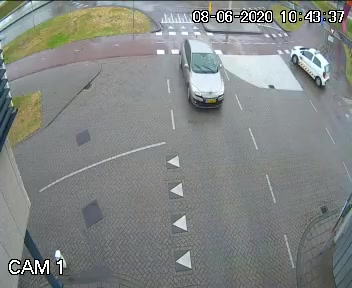car: (172, 35, 236, 126), (285, 36, 331, 99)
